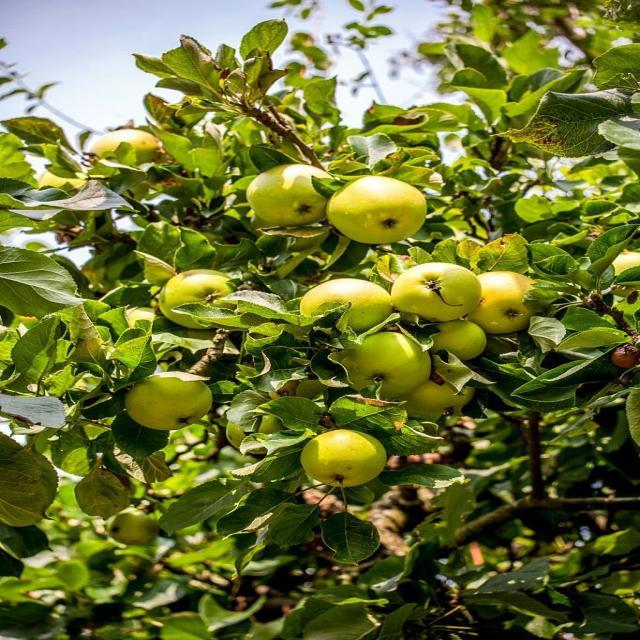Green Apple: (332, 176, 425, 242), (252, 167, 341, 228), (346, 332, 429, 393), (400, 264, 483, 321), (128, 374, 211, 431), (304, 279, 394, 331), (472, 271, 548, 331), (300, 431, 380, 488), (165, 270, 244, 326), (401, 374, 474, 417), (420, 316, 491, 358), (100, 129, 166, 170), (231, 408, 279, 456), (109, 509, 166, 543), (610, 251, 640, 280)
